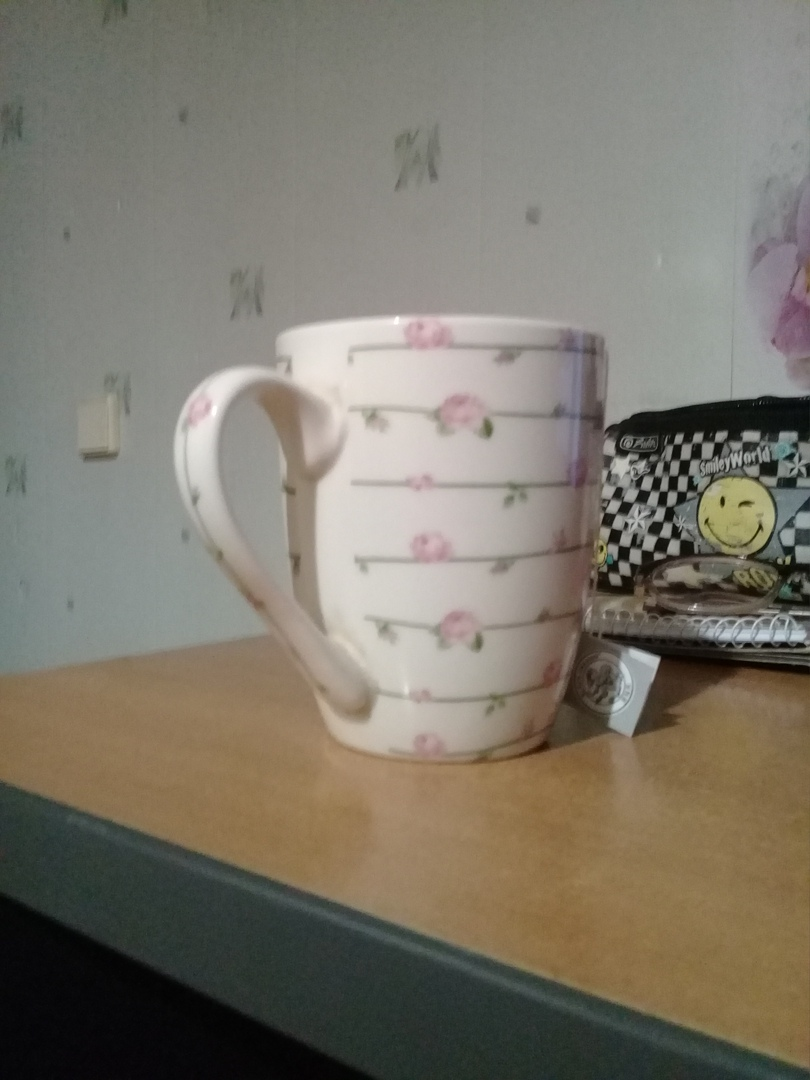cup: (161, 303, 628, 772)
